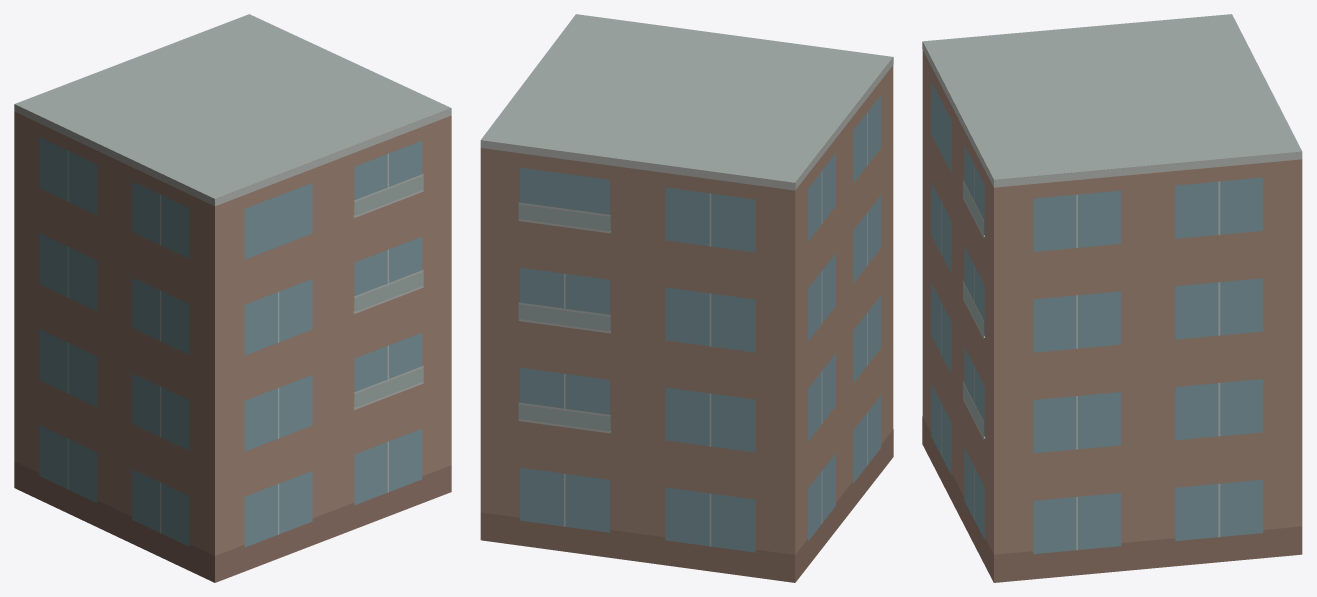
The model's file is survey-upis-32743921.glb.
3 views of the same model, side by side, from view 1: azimuth 30°, elevation 25°; view 2: azimuth 150°, elevation 25°; view 3: azimuth 270°, elevation 25° (orthographic). The views are drawn at different scales.
Visible parts, largest first — view 1: survey-upis-32743921.tmp; view 2: survey-upis-32743921.tmp; view 3: survey-upis-32743921.tmp.
Part boxes in pixels (x1,y1,x2,y2): survey-upis-32743921.tmp: (14, 14, 451, 582); survey-upis-32743921.tmp: (480, 14, 893, 582); survey-upis-32743921.tmp: (922, 14, 1302, 582).
Size of the model in its own units: 11.13 by 12.6 by 10.77.
